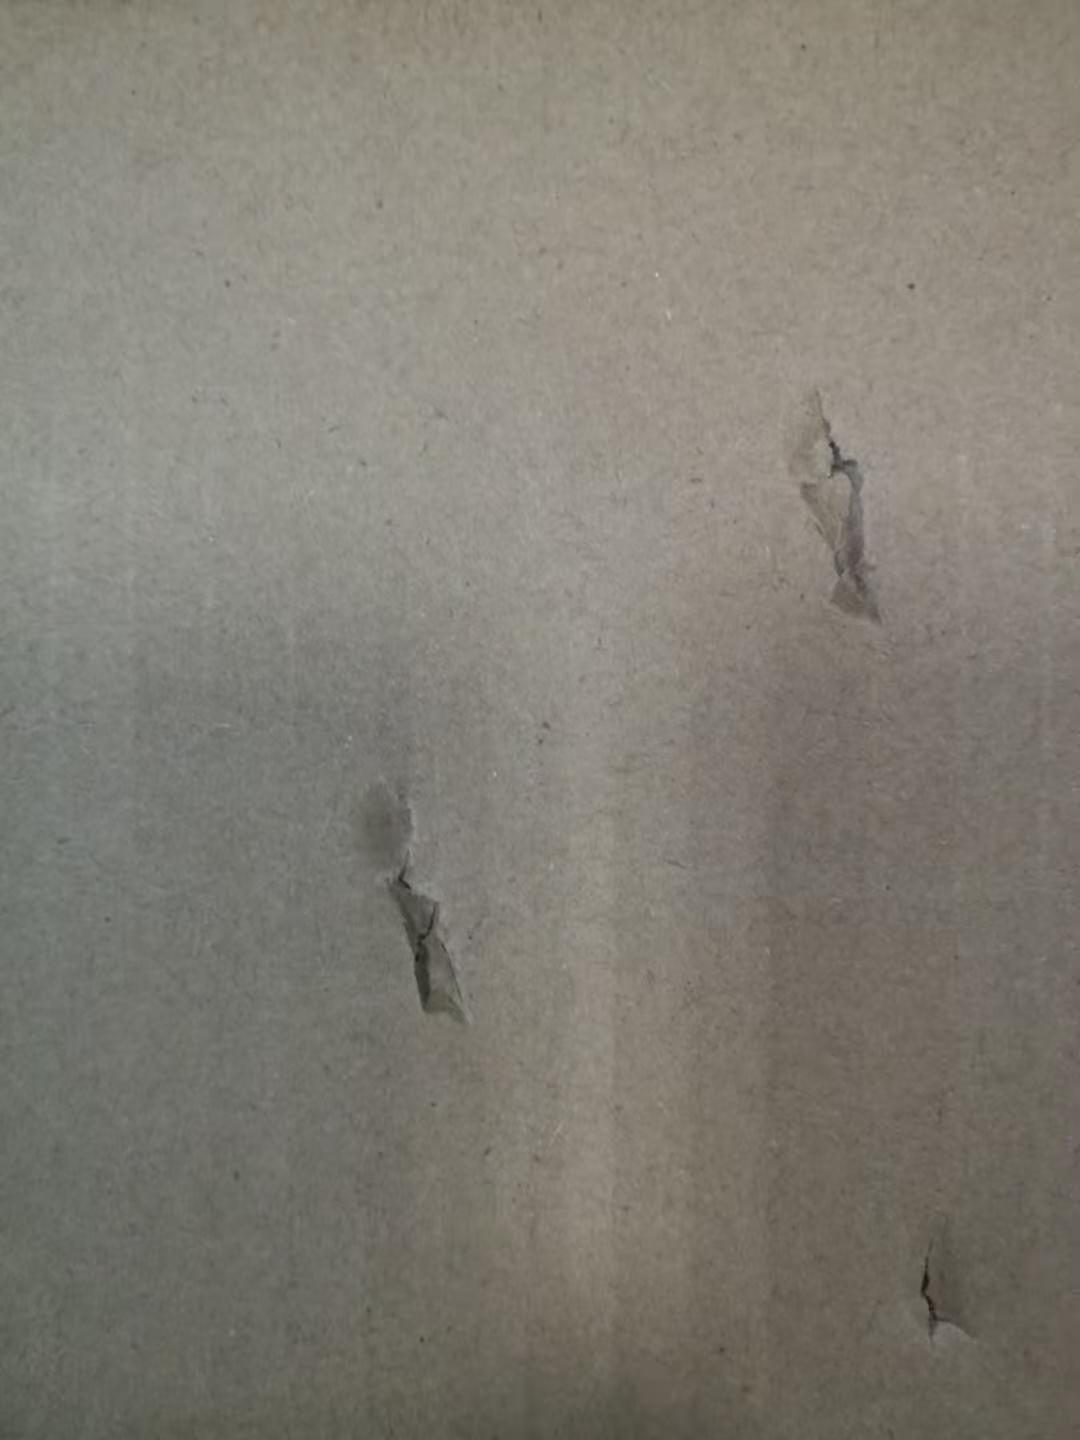defect: (294, 736, 532, 1059), (740, 347, 933, 675), (875, 1191, 1026, 1382)
